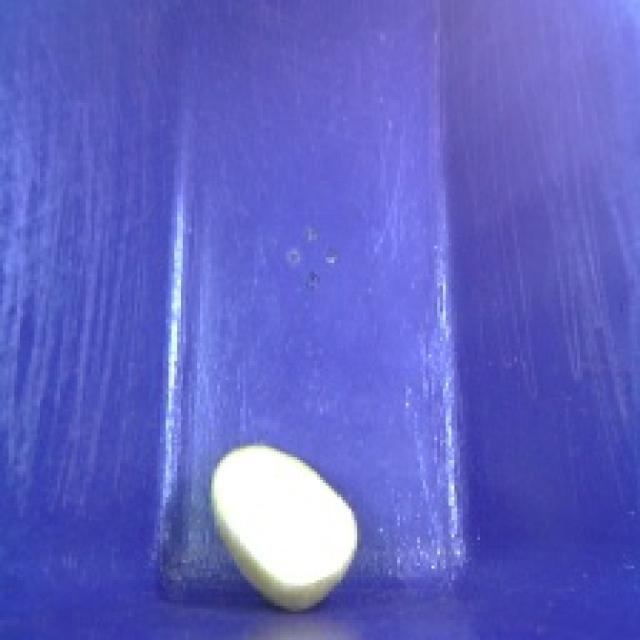potato: (194, 433, 375, 623)
